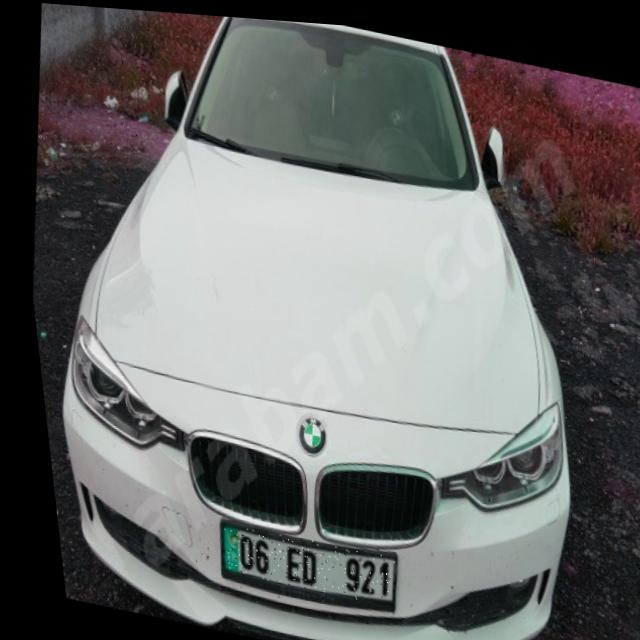license_plate: (204, 518, 388, 603)
